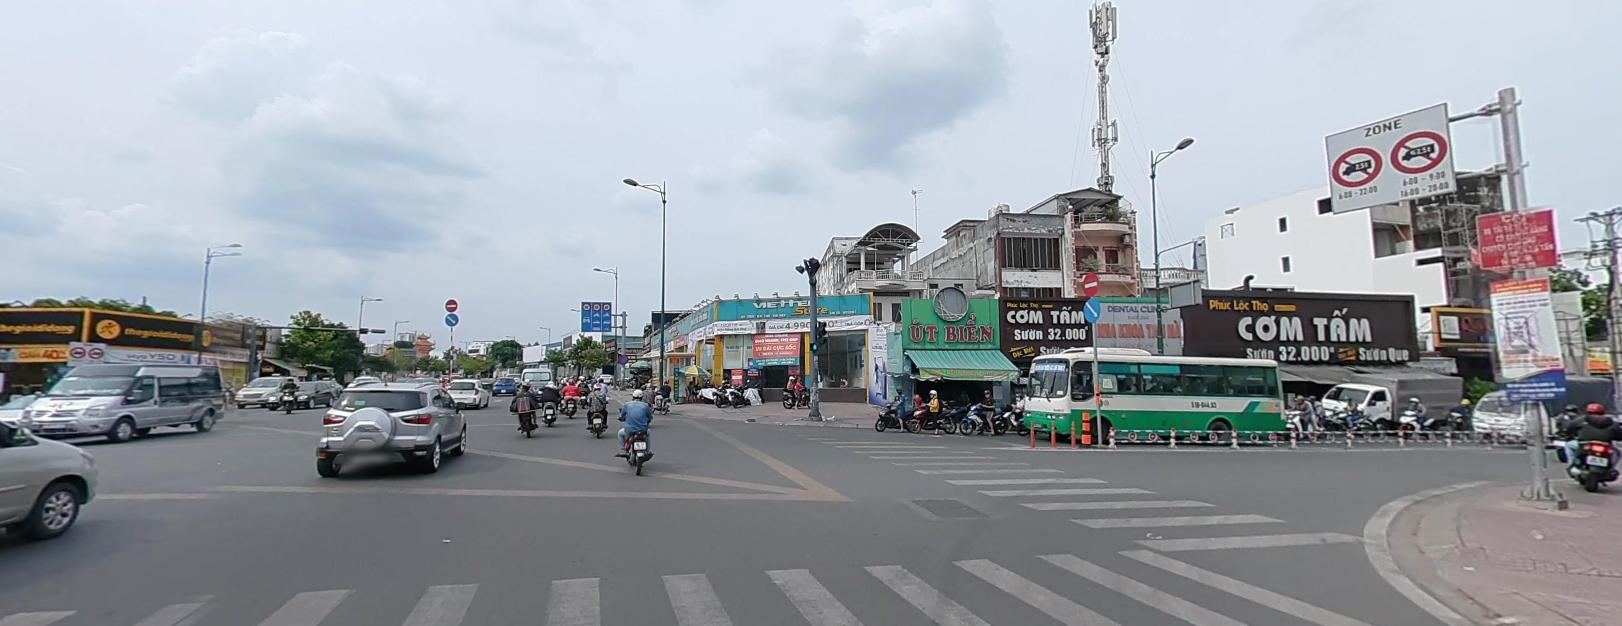Cam con lai: (86, 344, 103, 358), (69, 343, 84, 357)
Cam nguoc chieu: (1082, 269, 1099, 295), (444, 298, 457, 311)
Hieu lenh: (1083, 297, 1102, 322), (444, 311, 459, 325)
